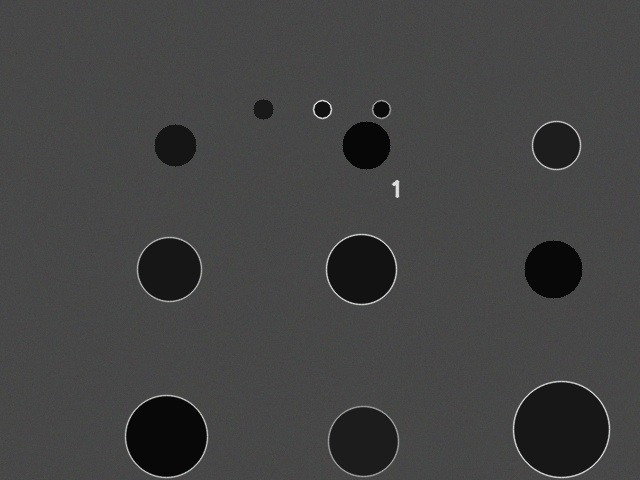hole: (513, 381, 609, 477), (125, 395, 207, 477), (326, 234, 396, 304), (328, 406, 398, 476), (137, 237, 201, 301), (524, 240, 582, 298), (342, 121, 390, 169), (532, 121, 580, 169), (154, 124, 196, 166), (253, 99, 273, 119), (313, 100, 331, 118), (372, 100, 390, 118)
